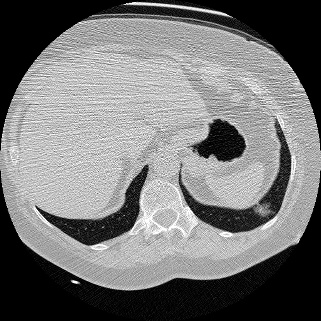PN: (255, 203, 271, 219)
